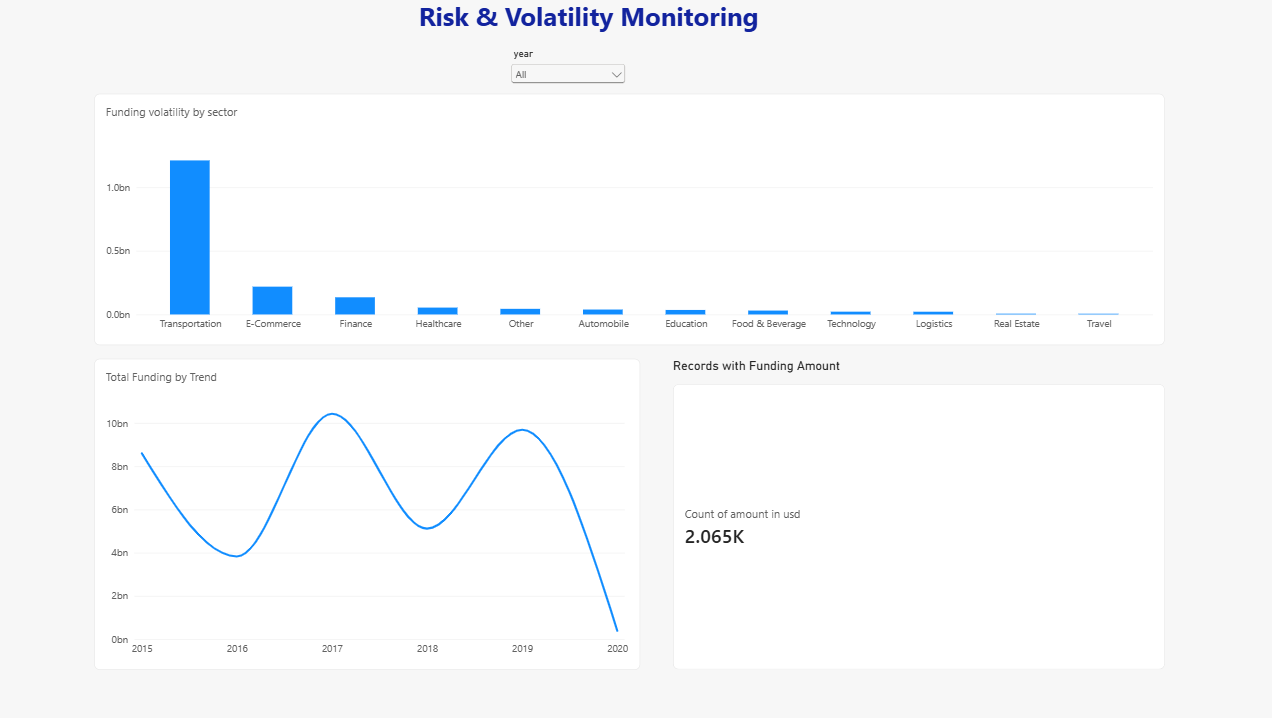

The dashboard page shown, as its layout file describes it:
{"tool":"powerbi","page":{"name":"Risk & Volatility Monitoring","canvas":[1920,1080],"ordinal":2},"visuals":[{"type":"clusteredColumnChart","fields":{"Category":["sector_volatility.sector"],"Y":["Avg(sector_volatility.funding_volatility)"]},"box":[161.1,157.4,1549.9,364.3],"z":0},{"type":"lineChart","fields":{"Category":["startup_clean.year"],"Y":["startup_clean.Total Funding"]},"box":[161.1,541.1,790.4,450.8],"z":1000},{"type":"cardVisual","title":"Records with Funding Amount","fields":{"Data":["CountNonNull(startup_clean.amount_in_usd)"]},"box":[998.9,541.1,712.2,450.8],"z":2000},{"type":"textbox","box":[413.7,20.6,1208.2,137.9],"z":2001},{"type":"slicer","fields":{"Values":["startup_clean.year"]},"box":[759.5,90.6,175,150.3],"z":2002}]}

Visuals, with their boxes in screenshot pixels (x1, y1, x2, y2), scaled from the page's 1920x1080 canvas onto the 1272x718 screenshot:
clusteredColumnChart - sector_volatility.sector x Avg(sector_volatility.funding_volatility): x1=107 y1=105 x2=1134 y2=347
lineChart - startup_clean.year x startup_clean.Total Funding: x1=107 y1=360 x2=630 y2=659
"Records with Funding Amount" cardVisual: x1=662 y1=360 x2=1134 y2=659
textbox: x1=274 y1=14 x2=1075 y2=105
slicer - startup_clean.year: x1=503 y1=60 x2=619 y2=160
